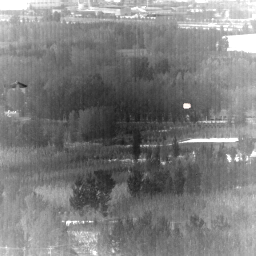Target: (181, 101, 192, 110)
